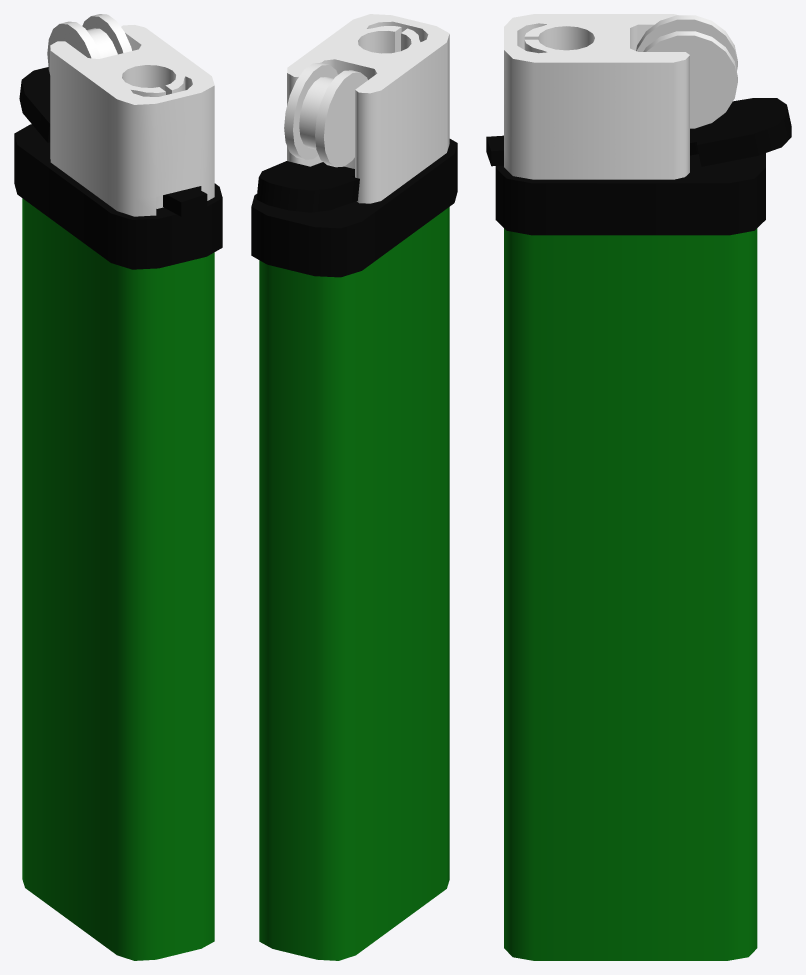
File: Lighter.obj
3 renders of one model, left to right at view 1: azimuth 30°, elevation 25°; view 2: azimuth 150°, elevation 25°; view 3: azimuth 270°, elevation 25°, orthographic. The views are drawn at different scales.
Parts seen in each view (by area): view 1: Body, Wheel, Cam, Rivet; view 2: Body, Wheel, Cam; view 3: Body, Wheel, Cam.
Boxes of the visible parts, bbox=[...] form: Body: bbox=[14, 25, 222, 960]; Wheel: bbox=[47, 14, 131, 74]; Cam: bbox=[19, 67, 50, 142]; Rivet: bbox=[163, 187, 207, 216]; Body: bbox=[251, 14, 457, 960]; Wheel: bbox=[284, 62, 367, 167]; Cam: bbox=[256, 161, 359, 212]; Body: bbox=[495, 14, 765, 960]; Wheel: bbox=[636, 15, 737, 128]; Cam: bbox=[690, 98, 791, 166].
Bounding box in the file's own units: 0.0115 × 0.0875 × 0.0266.
